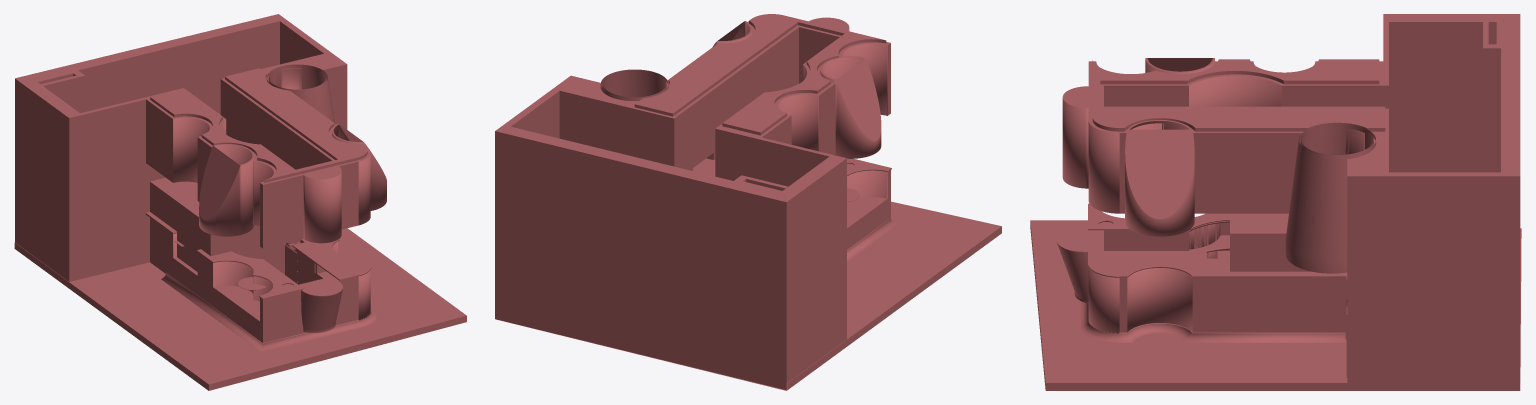
Rendered from asset.glb.
3 views of the same model, side by side, from view 1: azimuth 30°, elevation 25°; view 2: azimuth 150°, elevation 25°; view 3: azimuth 270°, elevation 25° (orthographic). The views are drawn at different scales.
Parts seen in each view (by area): view 1: the final model.001, Cube.001; view 2: the final model.001; view 3: the final model.001, Cube.001.
Boxes of the visible parts, x1,y1,x2,y2 form: the final model.001: (14, 14, 466, 390); Cube.001: (150, 177, 286, 274); the final model.001: (495, 14, 1001, 390); the final model.001: (1030, 14, 1521, 390); Cube.001: (1230, 213, 1310, 271).
Size of the model in its own units: 4.98 by 3.12 by 6.36.
